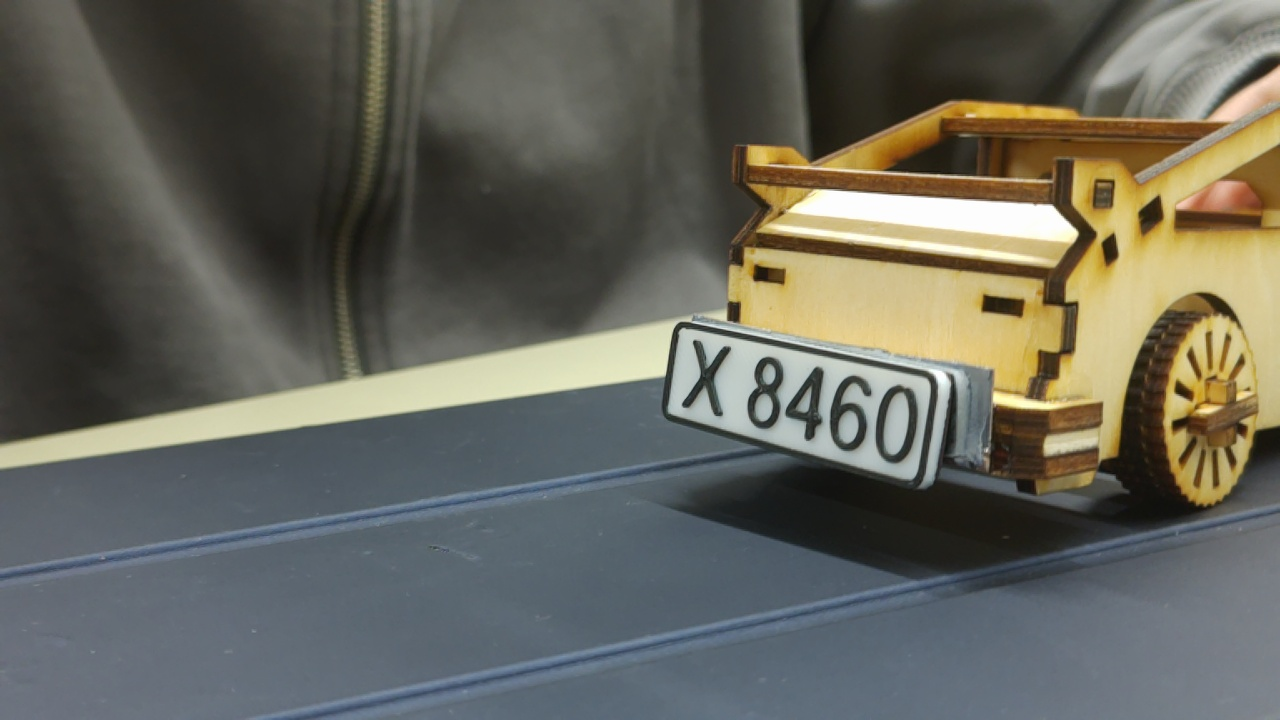license_plate: (654, 308, 957, 508)
